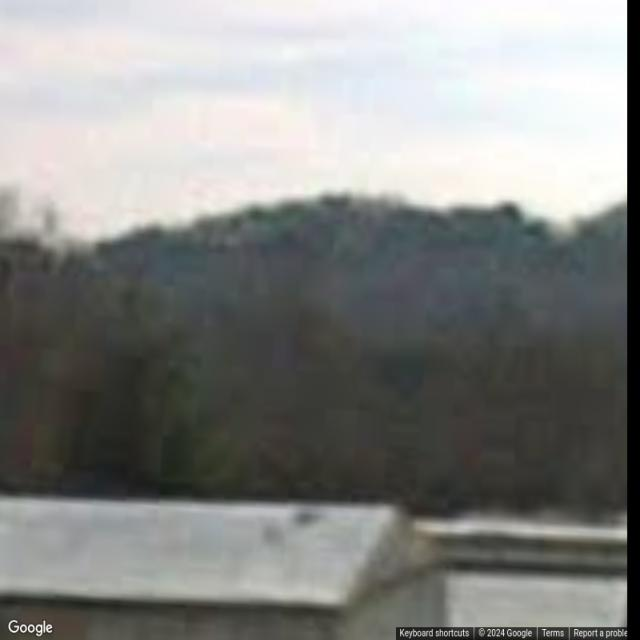House: (0, 496, 458, 639)
